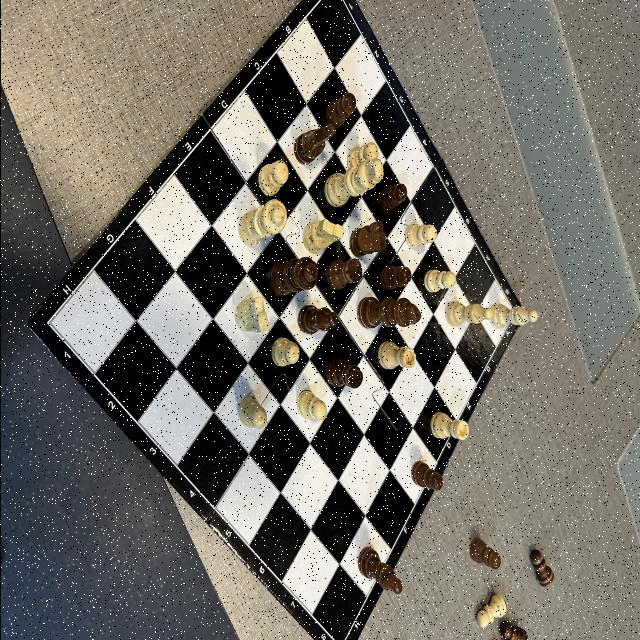Black-Bishop: (358, 546, 402, 594), (298, 306, 338, 334)
Black-King: (356, 296, 421, 328)
Black-Knight: (292, 123, 334, 165), (350, 221, 386, 256)
Black-Pawn: (326, 93, 356, 129), (468, 538, 500, 570), (529, 550, 553, 588), (376, 184, 406, 214), (410, 462, 442, 490), (380, 265, 410, 290), (498, 622, 528, 640)
Black-Queen: (269, 257, 318, 295)
Black-Rook: (325, 256, 361, 290), (324, 359, 362, 389)
White-Bishop: (445, 300, 491, 326), (488, 304, 536, 328)
White-King: (323, 158, 383, 208)
White-Knight: (302, 218, 344, 253), (234, 297, 269, 333)
White-Pawn: (257, 161, 289, 196), (475, 594, 507, 628), (296, 391, 326, 422), (270, 336, 299, 368), (237, 396, 266, 428), (404, 224, 436, 250), (346, 143, 378, 169), (424, 270, 456, 294)
White-Queen: (238, 200, 287, 248)
White-Rook: (377, 340, 415, 370), (430, 412, 468, 440)
